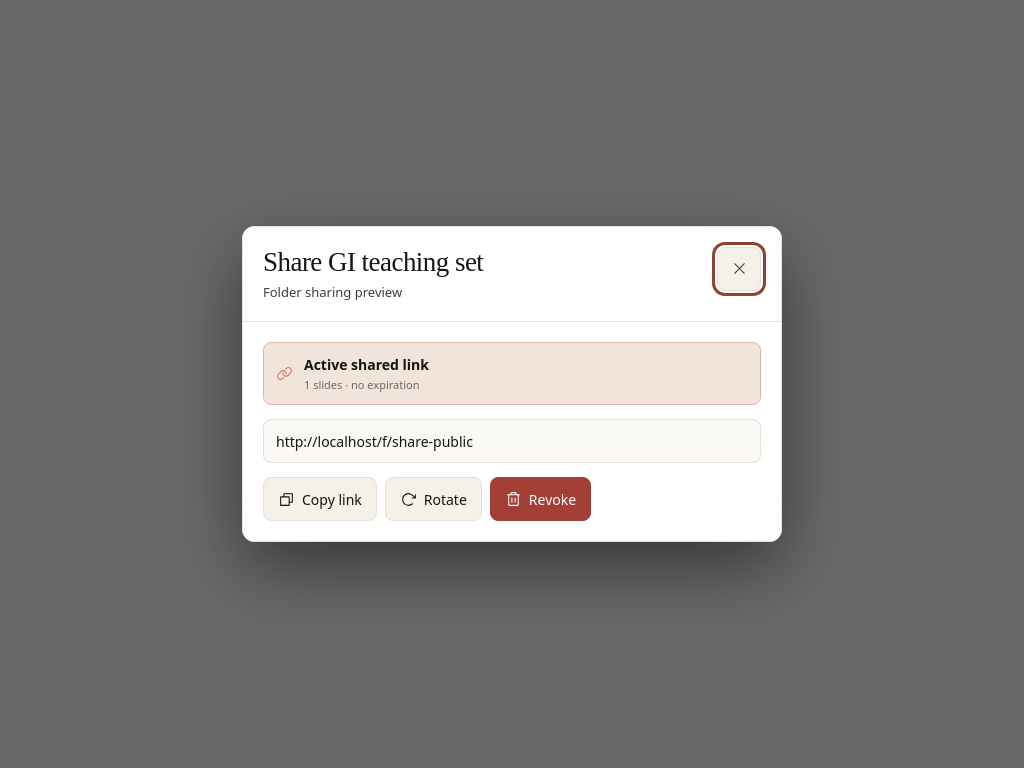
Test: share activation dialog › reports link-management failures and confirms revocation
The image size is (1024, 768).
Click the button "Rotate" at (433, 499), box [385,477,482,521]
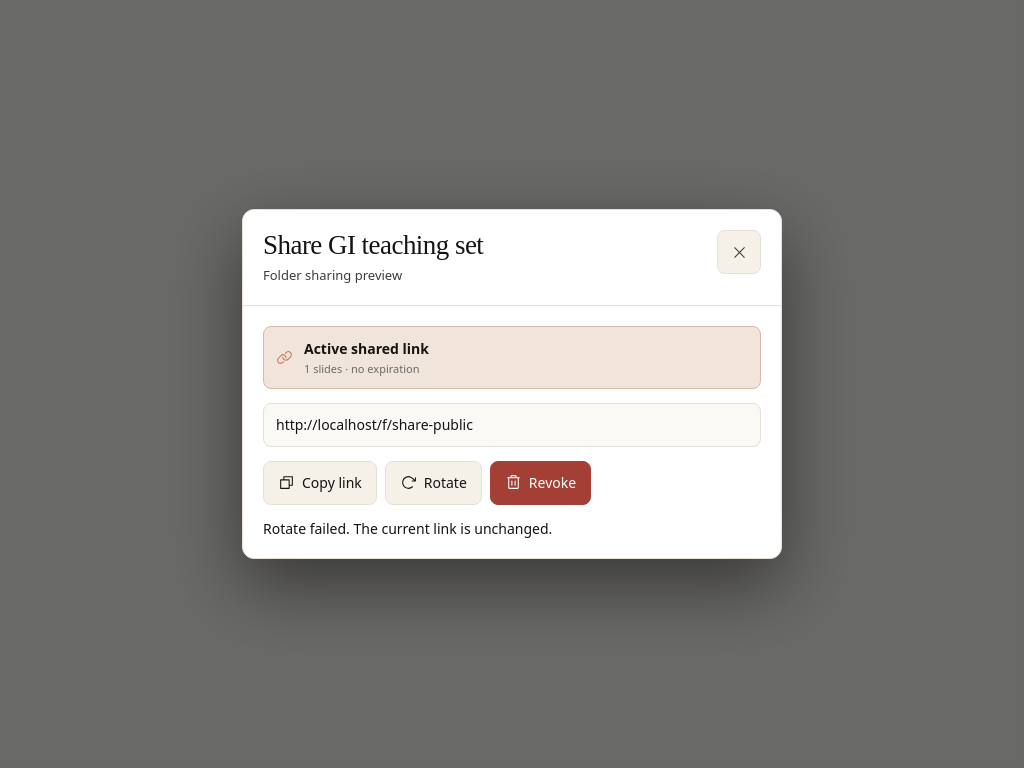
expect the message reads "Rotate failed. The current link is unchanged.": met, box [263,519,552,538]
Click the button "Revoke" at (540, 483), box [490,461,591,505]
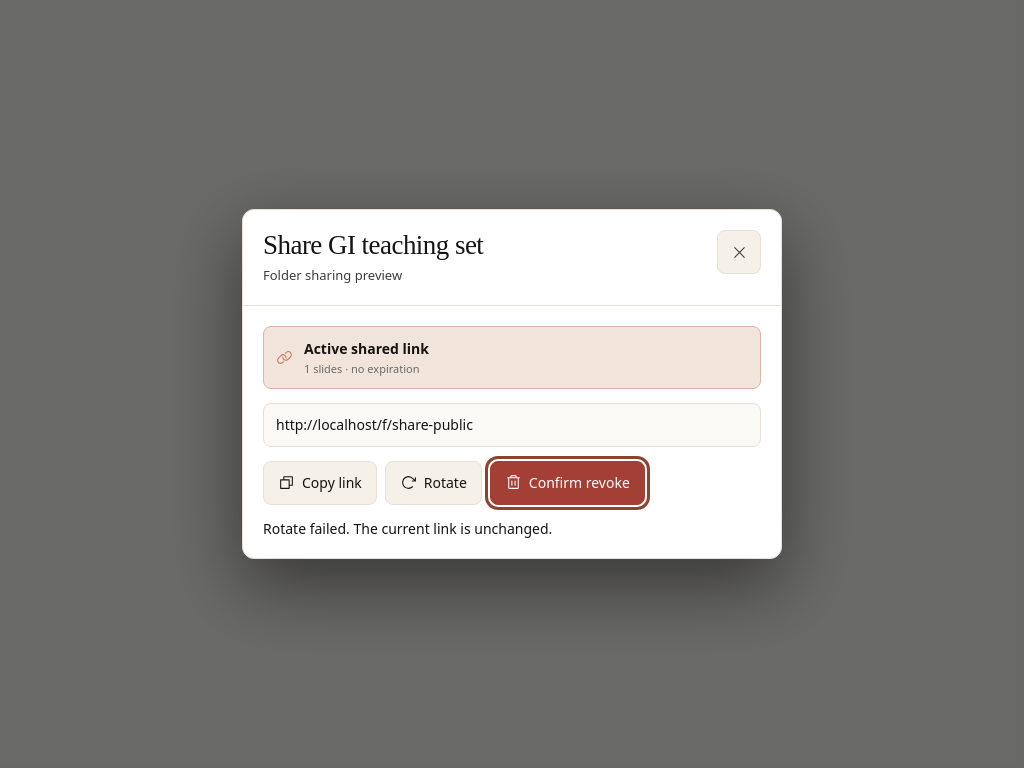
expect the button "Confirm revoke" is shown: met, box [490,461,645,505]
